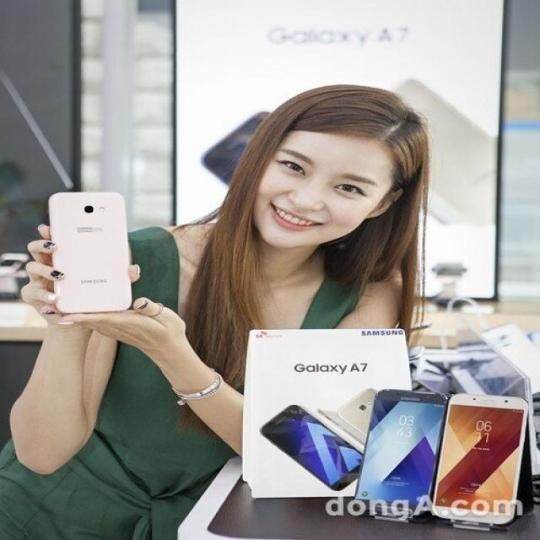phone: (40, 189, 138, 313)
